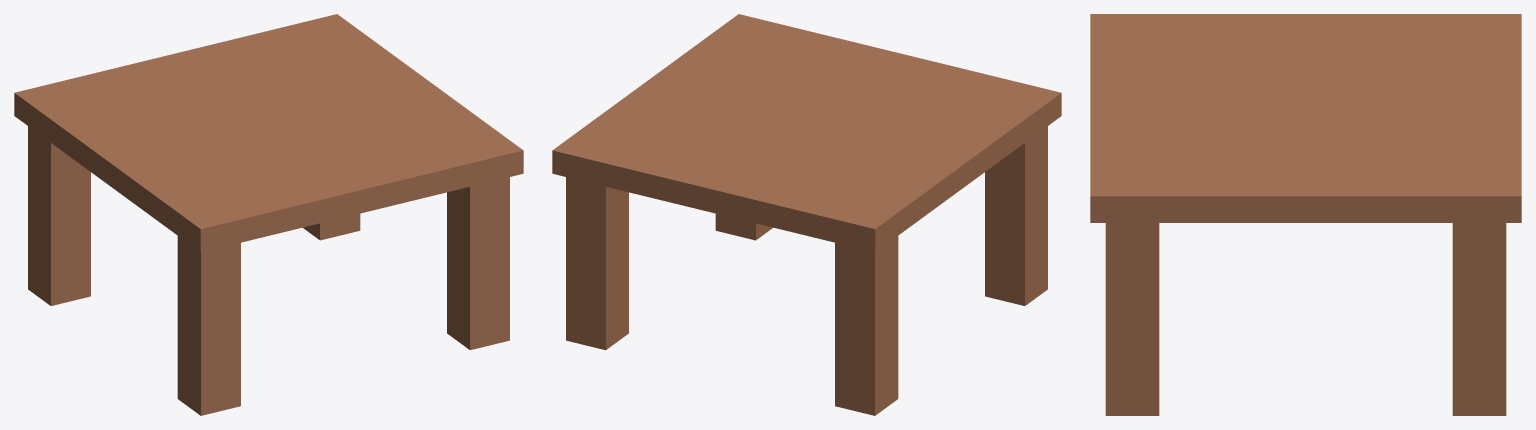
Rendered from Table01.fbx.
3 renders of one model, left to right at view 1: azimuth 30°, elevation 25°; view 2: azimuth 150°, elevation 25°; view 3: azimuth 270°, elevation 25°, orthographic. The views are drawn at different scales.
Visible parts, largest first — view 1: Table01; view 2: Table01; view 3: Table01.
Part boxes in pixels (left/top/right/bottom): Table01: left=14, top=14, right=523, bottom=415; Table01: left=552, top=14, right=1061, bottom=415; Table01: left=1090, top=14, right=1521, bottom=415.
Bounding box in the file's own units: 2 × 2 × 1.14.
